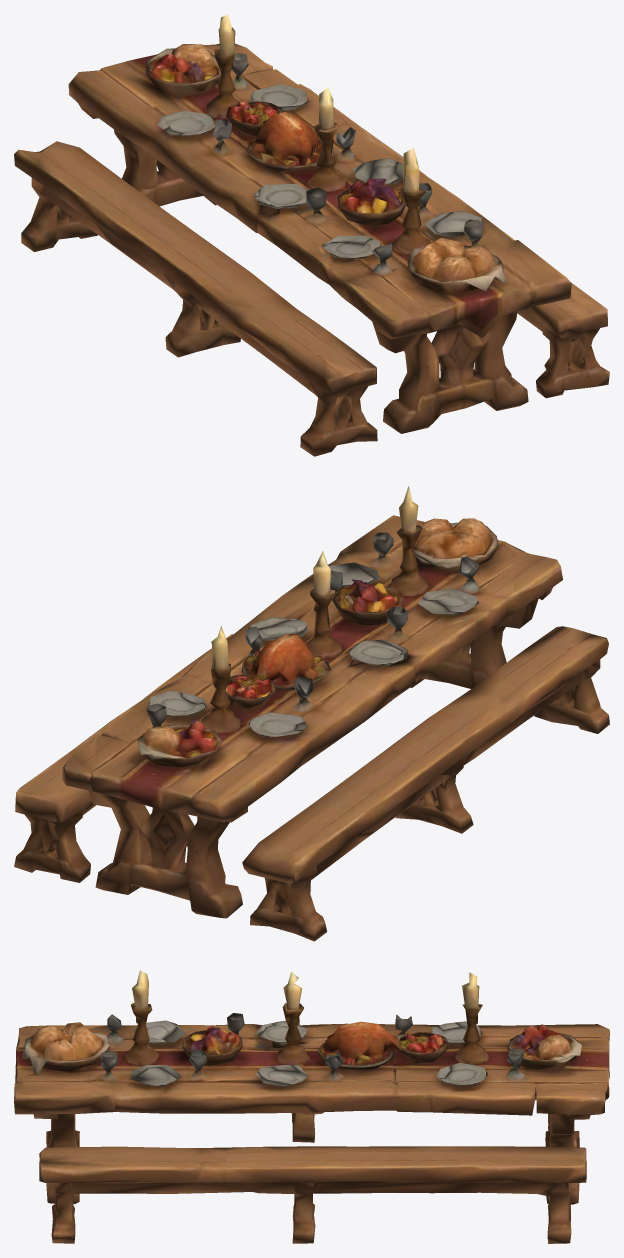
File: banquet-table.glb
3 renders of one model, top to bottom at view 1: azimuth 30°, elevation 25°; view 2: azimuth 150°, elevation 25°; view 3: azimuth 270°, elevation 25°, orthographic. The views are drawn at different scales.
Parts seen in each view (by area): view 1: banquet-table; view 2: banquet-table; view 3: banquet-table.
Boxes of the visible parts, x1,y1,x2,y2 form: banquet-table: [14, 14, 609, 456]; banquet-table: [14, 486, 609, 941]; banquet-table: [14, 970, 609, 1243].
Size of the model in its own units: 2.24 by 1.7 by 4.37.
Materials: 1 (1 with a texture image).
